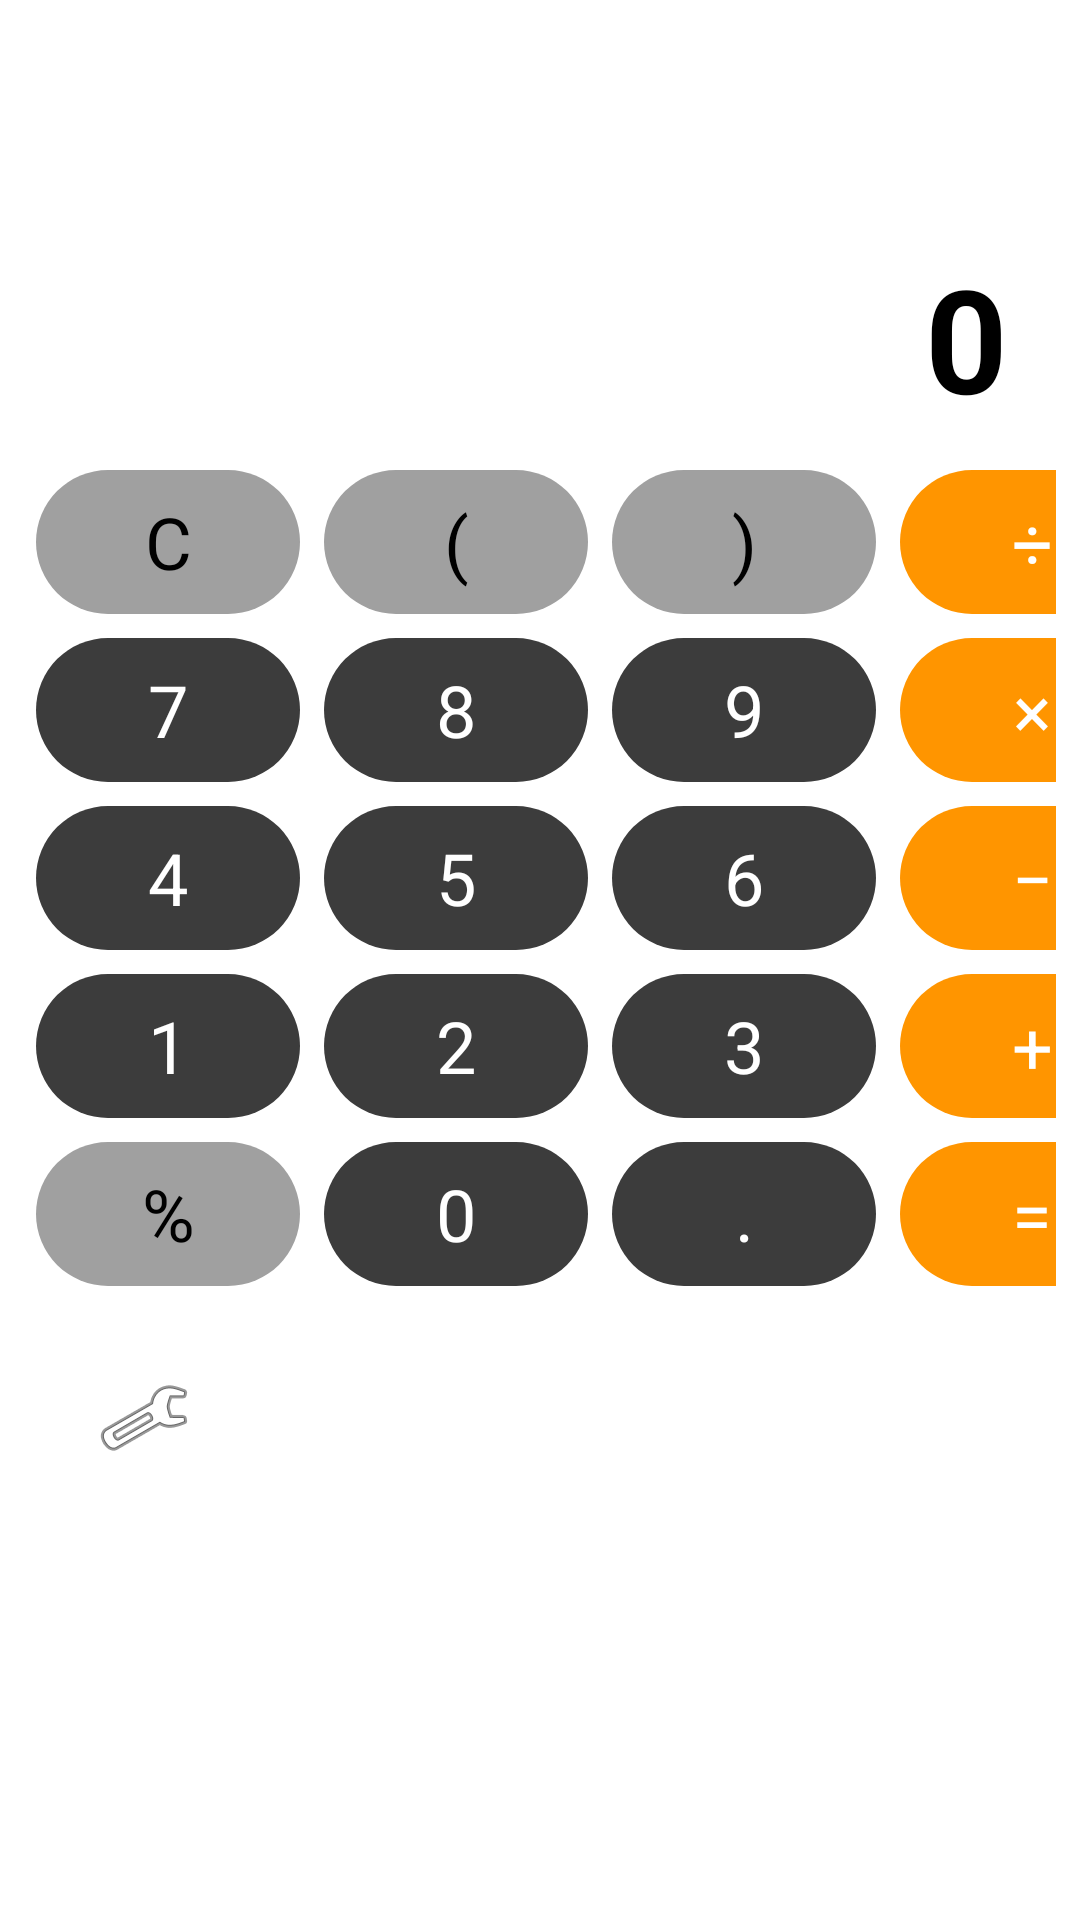

Where icons sit on this 1080*1920 app screen, as bbox(x1, y1, x2, y2):
Настройки: bbox(101, 1385, 187, 1451)
